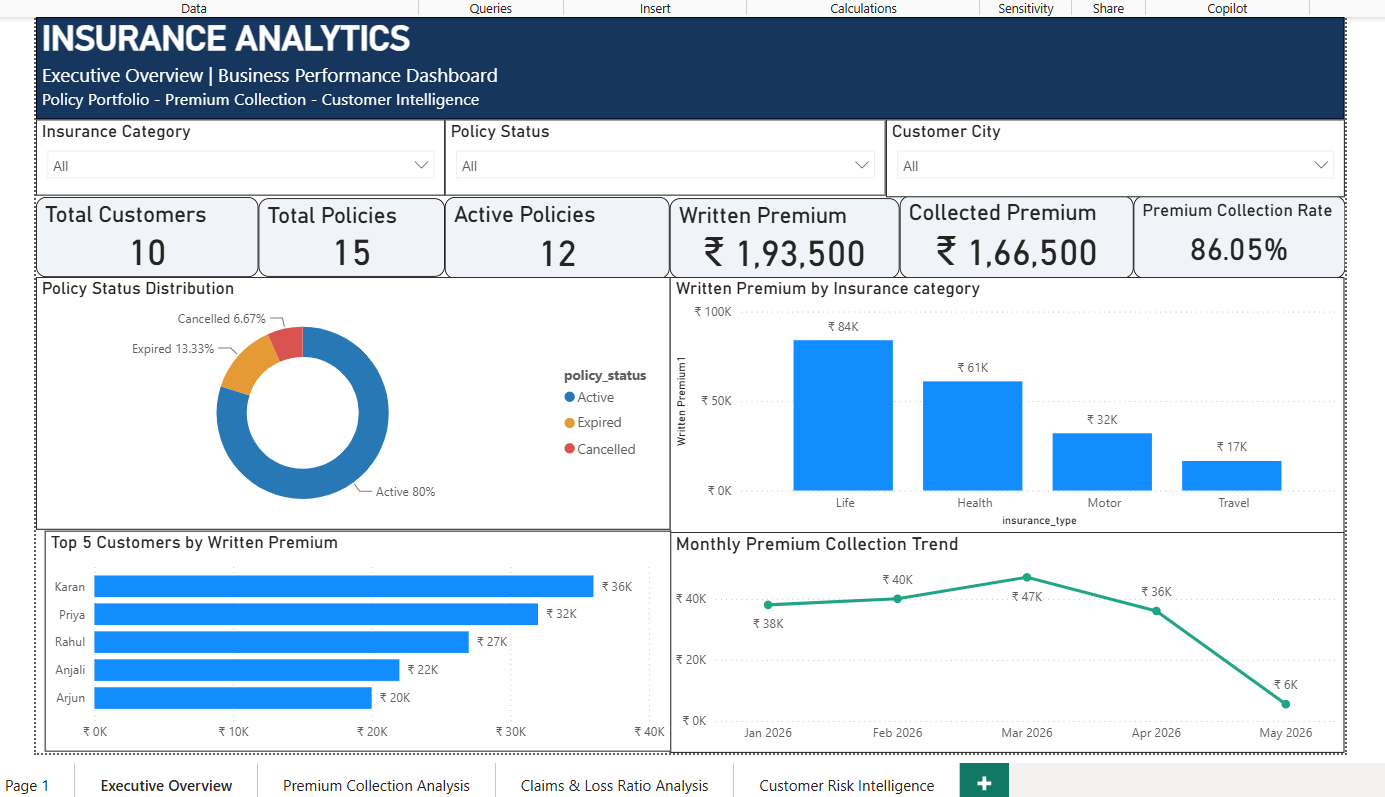

What the dashboard file says about the page in this screenshot:
{"tool":"powerbi","page":{"name":"Executive Overview","canvas":[1280,720],"ordinal":1},"visuals":[{"type":"card","title":"Total Customers","fields":{"Values":["DimPolicy.Total Customers"]},"box":[0,175.8,217.7,78.4],"z":0},{"type":"card","title":"Total Policies","fields":{"Values":["Measures (2).Total Policies"]},"box":[217.7,177.1,182.5,77.1],"z":1000},{"type":"card","title":"Active Policies","fields":{"Values":["Measures (2).Active Policies"]},"box":[400.2,175.8,220.4,79.8],"z":2000},{"type":"card","title":"Written Premium","fields":{"Values":["DimPolicy.Written Premium1"]},"box":[620.5,177.1,224.4,78.4],"z":3000},{"type":"card","title":"Collected Premium","fields":{"Values":["Measures (2).Collected Premium"]},"box":[845,174.4,228.5,81.1],"z":4000},{"type":"card","title":"Premium Collection Rate","fields":{"Values":["Measures (2).Premium Collection Rate"]},"box":[1073.4,174.4,206.8,81.1],"z":5000},{"type":"textbox","title":"INSURANCE ANALYTICS","box":[0,0,1280.3,100],"z":6000},{"type":"donutChart","title":"Policy Status Distribution","fields":{"Category":["DimPolicy.policy_status"],"Y":["CountNonNull(DimPolicy.policy_id)"]},"box":[0,254.2,620.5,247.4],"z":7000},{"type":"clusteredColumnChart","title":"Written Premium by Insurance category","fields":{"Category":["DimProduct.insurance_type"],"Y":["DimPolicy.Written Premium1"]},"box":[620.5,254.2,659.7,250.1],"z":8000},{"type":"lineChart","title":"Monthly Premium Collection Trend","fields":{"Category":["DimPaymentDate.MonthYear"],"Y":["Measures (2).Collected Premium"]},"box":[620.5,504.3,659.7,216.3],"z":9000},{"type":"clusteredBarChart","title":"Top 5 Customers by Written Premium","fields":{"Category":["DimCustomer.customer_name"],"Y":["DimPolicy.Written Premium1"]},"box":[8.1,502.9,612.4,216.3],"z":10000},{"type":"slicer","title":"Insurance Category","fields":{"Values":["DimProduct.insurance_type"]},"box":[0,100,400.2,74.4],"z":11000},{"type":"slicer","title":"Policy Status","fields":{"Values":["DimPolicy.policy_status"]},"box":[400.2,100,431.3,74.4],"z":12000},{"type":"slicer","title":"Customer City","fields":{"Values":["DimCustomer.city"]},"box":[831.4,100,448.8,75.7],"z":13000}]}

Visuals, with their boxes in screenshot pixels (x1, y1, x2, y2):
"Total Customers" card: Rect(29, 192, 253, 272)
"Total Policies" card: Rect(253, 193, 441, 272)
"Active Policies" card: Rect(441, 192, 668, 274)
"Written Premium" card: Rect(667, 193, 898, 274)
"Collected Premium" card: Rect(899, 190, 1134, 274)
"Premium Collection Rate" card: Rect(1134, 190, 1346, 274)
"INSURANCE ANALYTICS" textbox: Rect(29, 11, 1347, 114)
"Policy Status Distribution" donutChart: Rect(29, 272, 667, 527)
"Written Premium by Insurance category" clusteredColumnChart: Rect(667, 272, 1346, 530)
"Monthly Premium Collection Trend" lineChart: Rect(667, 530, 1346, 752)
"Top 5 Customers by Written Premium" clusteredBarChart: Rect(37, 528, 667, 751)
"Insurance Category" slicer: Rect(29, 114, 441, 190)
"Policy Status" slicer: Rect(441, 114, 885, 190)
"Customer City" slicer: Rect(885, 114, 1346, 192)
